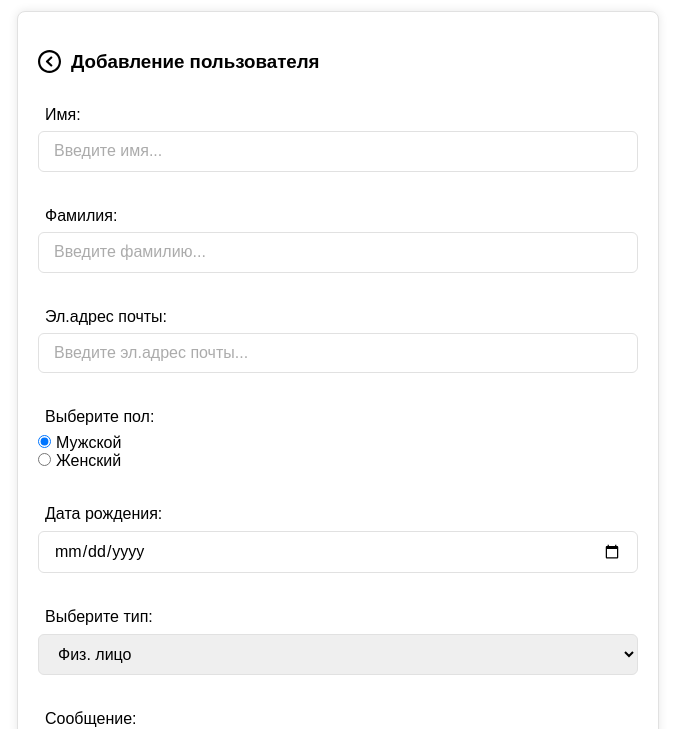
Test: Проверка компонента UserForm › Проверка при вводе короткого количества символов поля lastName
Type "A" into the field with placeholder "Введите фамилию..." at (338, 252), box [38,232,638,272]
(page scrolled)
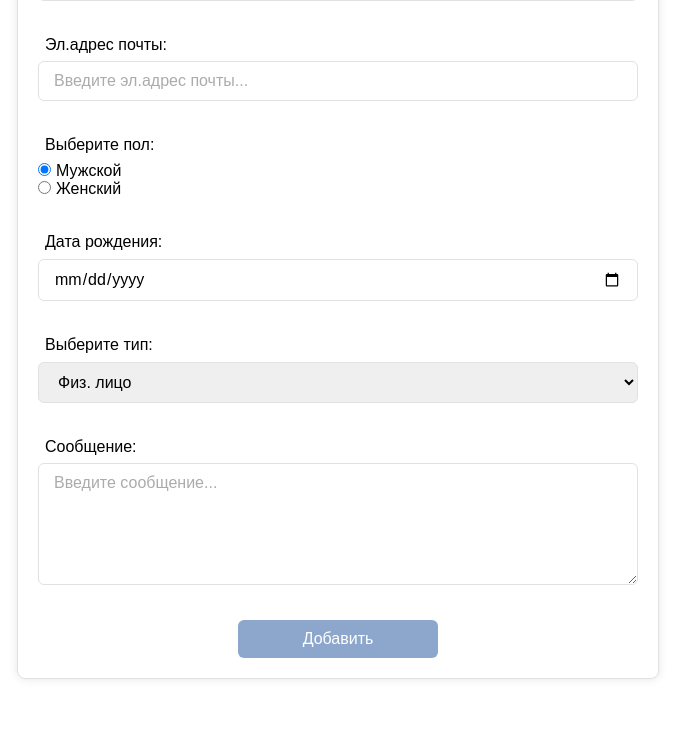
Click the button "Добавить" at (338, 639), box [238,620,438,658]
(page scrolled)
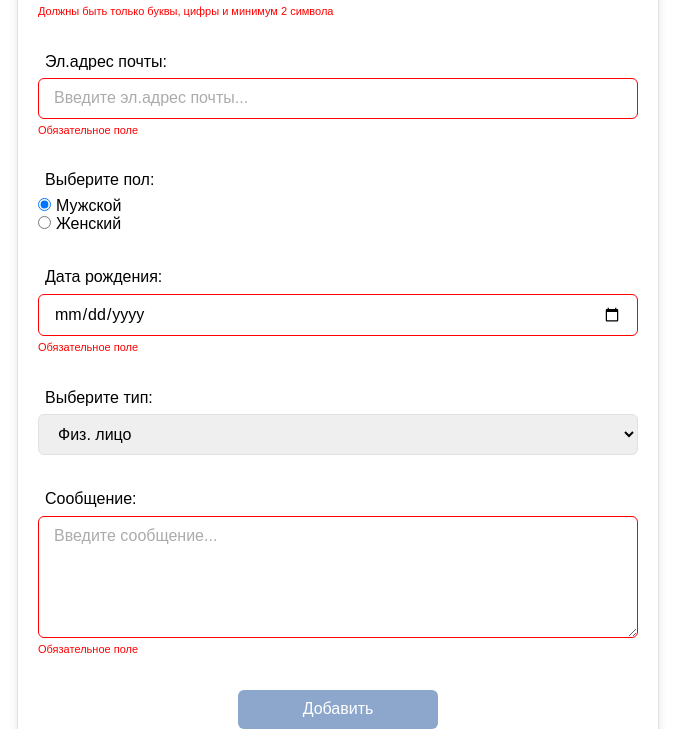
Expected: the text "Должны быть только буквы, цифры и минимум 2 символа" is shown, [38,5,334,17]
